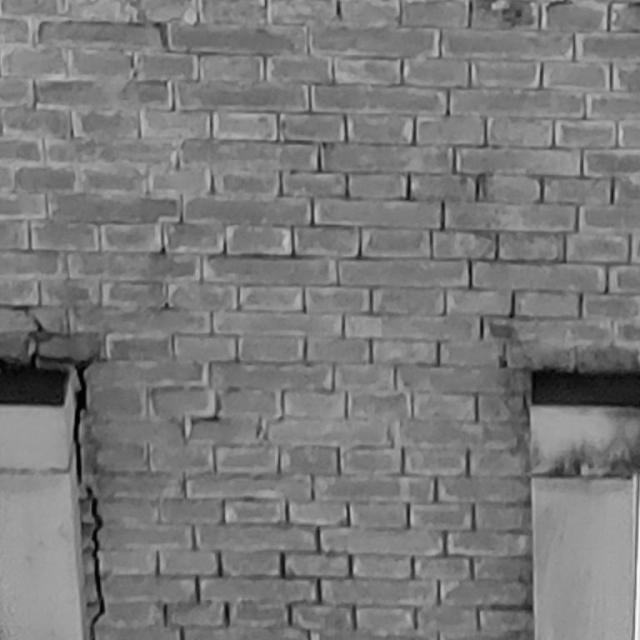crack: (1, 304, 106, 640)
